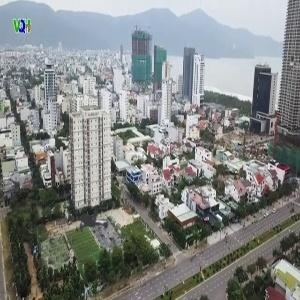drone: (49, 184, 132, 267)
